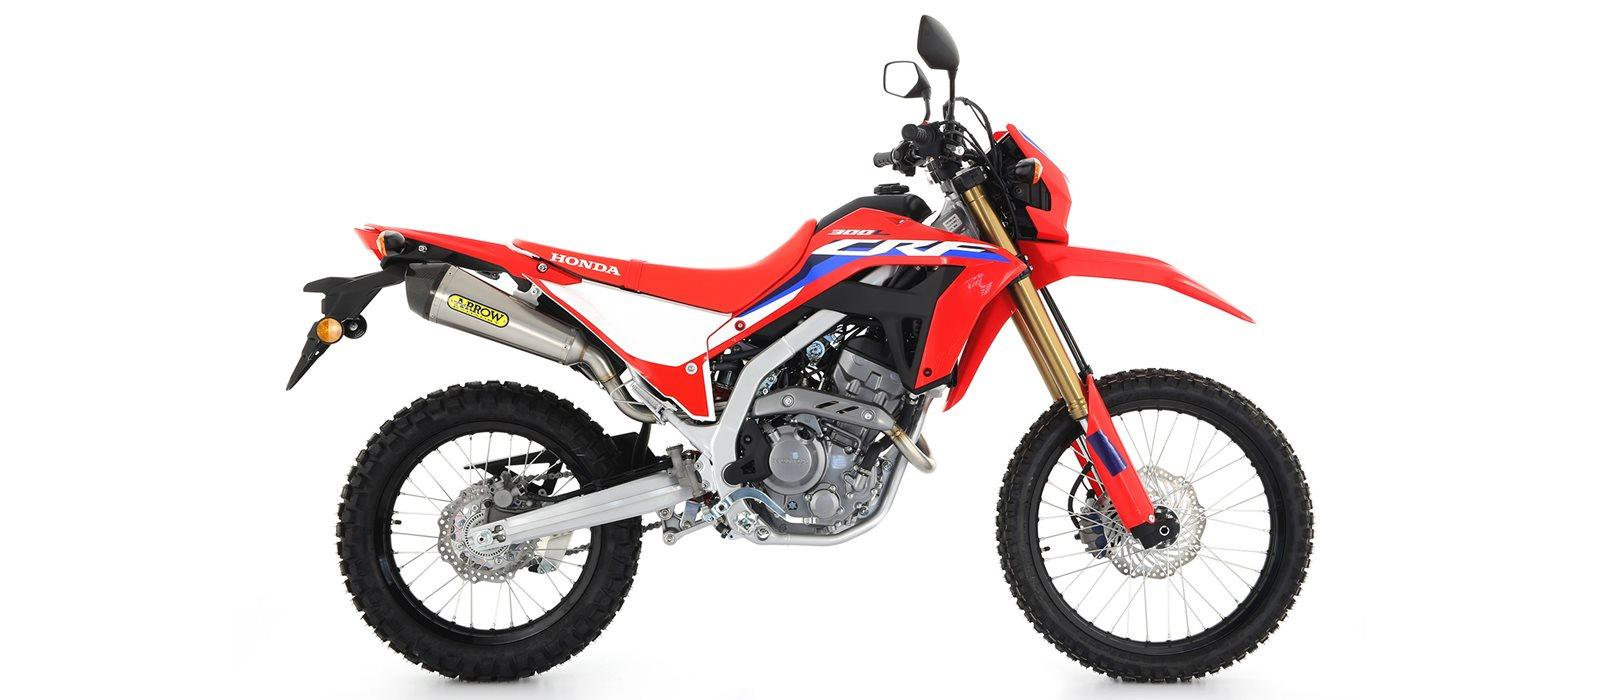engine-chasis: (703, 308, 935, 546)
exhaust: (404, 259, 666, 427), (748, 386, 937, 473), (674, 407, 691, 419), (714, 401, 728, 414)
frontside: (706, 122, 1256, 549)
handlebar: (872, 13, 1037, 250)
motorbike: (289, 15, 1315, 681)
rearside: (285, 222, 733, 550)
seat: (511, 217, 817, 313)
tank: (813, 183, 934, 235)
wheel: (995, 367, 1315, 683), (335, 381, 642, 682), (524, 454, 672, 502), (1039, 286, 1094, 384), (1067, 460, 1093, 531), (512, 470, 574, 483), (565, 542, 590, 556), (642, 519, 662, 534)
